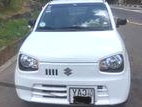car: (14, 0, 129, 107)
